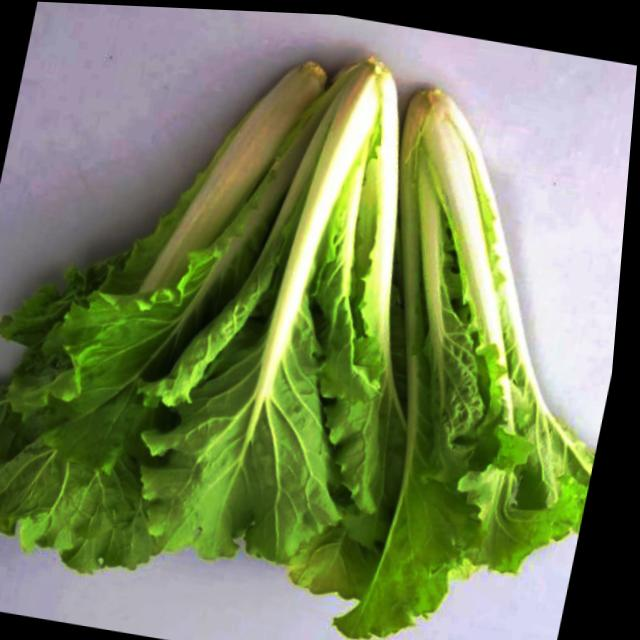chinese_cabbage: (5, 5, 610, 640)
